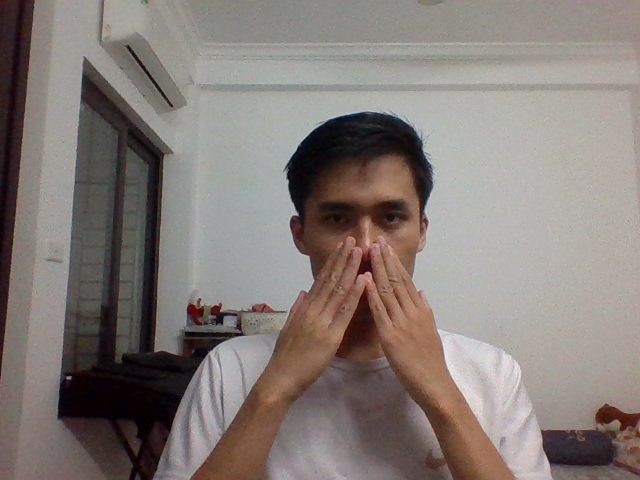Thanks: (271, 232, 454, 383)
